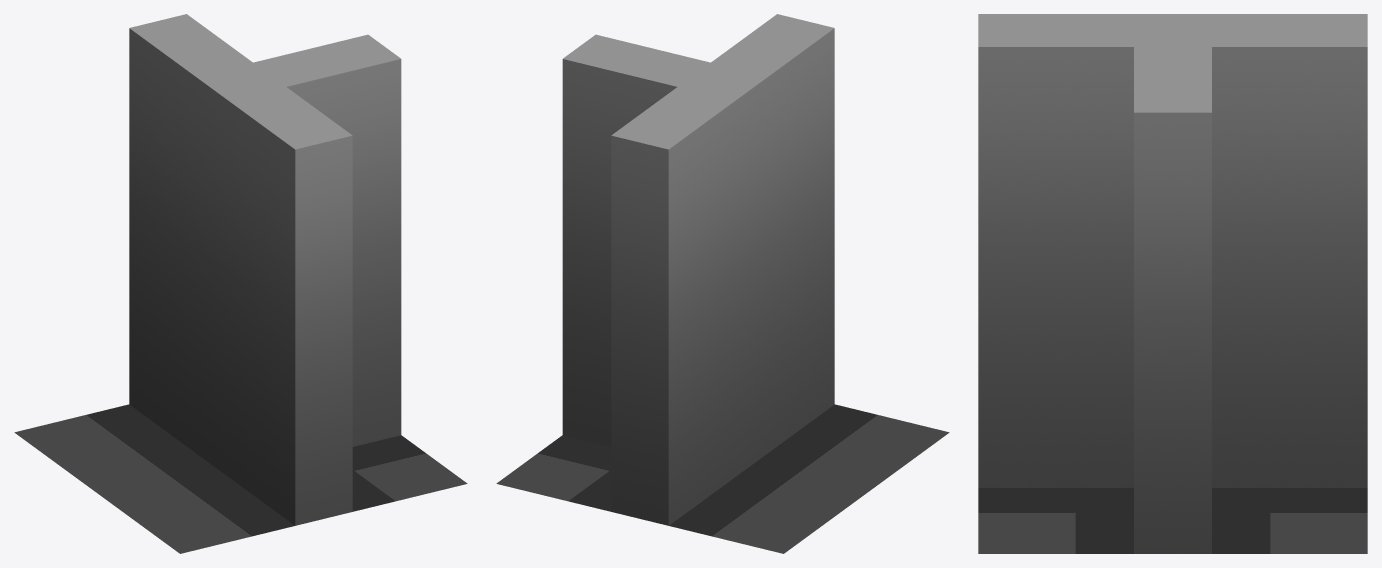
File: SM_MuurT.fbx
3 renders of one model, left to right at view 1: azimuth 30°, elevation 25°; view 2: azimuth 150°, elevation 25°; view 3: azimuth 270°, elevation 25°, orthographic. The views are drawn at different scales.
Parts seen in each view (by area): view 1: SM_muurT; view 2: SM_muurT; view 3: SM_muurT.
Boxes of the visible parts, x1,y1,x2,y2 form: SM_muurT: (14, 14, 467, 553); SM_muurT: (496, 14, 949, 553); SM_muurT: (978, 14, 1367, 553).
Size of the model in its own units: 200 by 250 by 200.
